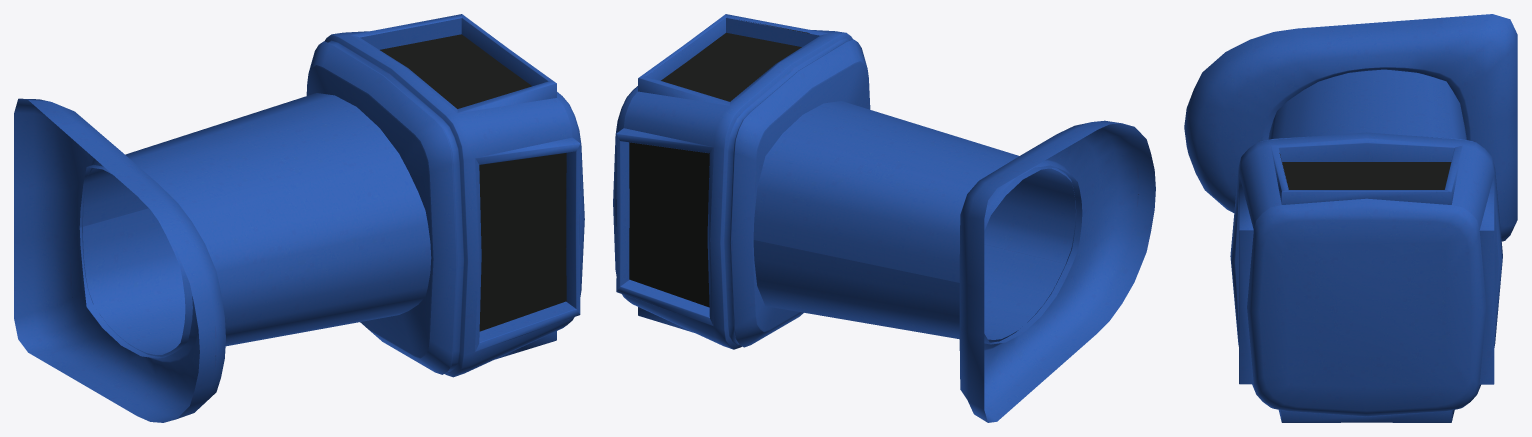
File: cP_RecyclingBin01.dae
3 renders of one model, left to right at view 1: azimuth 30°, elevation 25°; view 2: azimuth 150°, elevation 25°; view 3: azimuth 270°, elevation 25°, orthographic. The views are drawn at different scales.
Visible parts, largest first — view 1: cP_RecyclingBin01.001; view 2: cP_RecyclingBin01.001; view 3: cP_RecyclingBin01.001.
Boxes of the visible parts, x1=… form: cP_RecyclingBin01.001: x1=14, y1=14, x2=584, y2=422; cP_RecyclingBin01.001: x1=613, y1=14, x2=1155, y2=422; cP_RecyclingBin01.001: x1=1184, y1=14, x2=1517, y2=422.
Bounding box in the file's own units: 1.59 × 1.19 × 0.9683.
